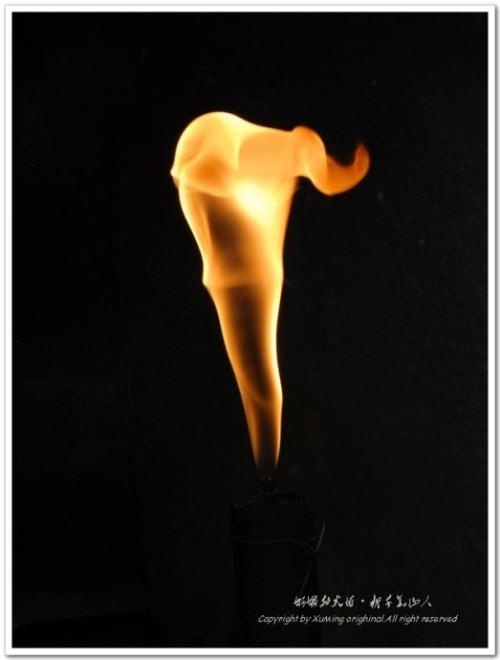fire: (167, 94, 368, 470)
